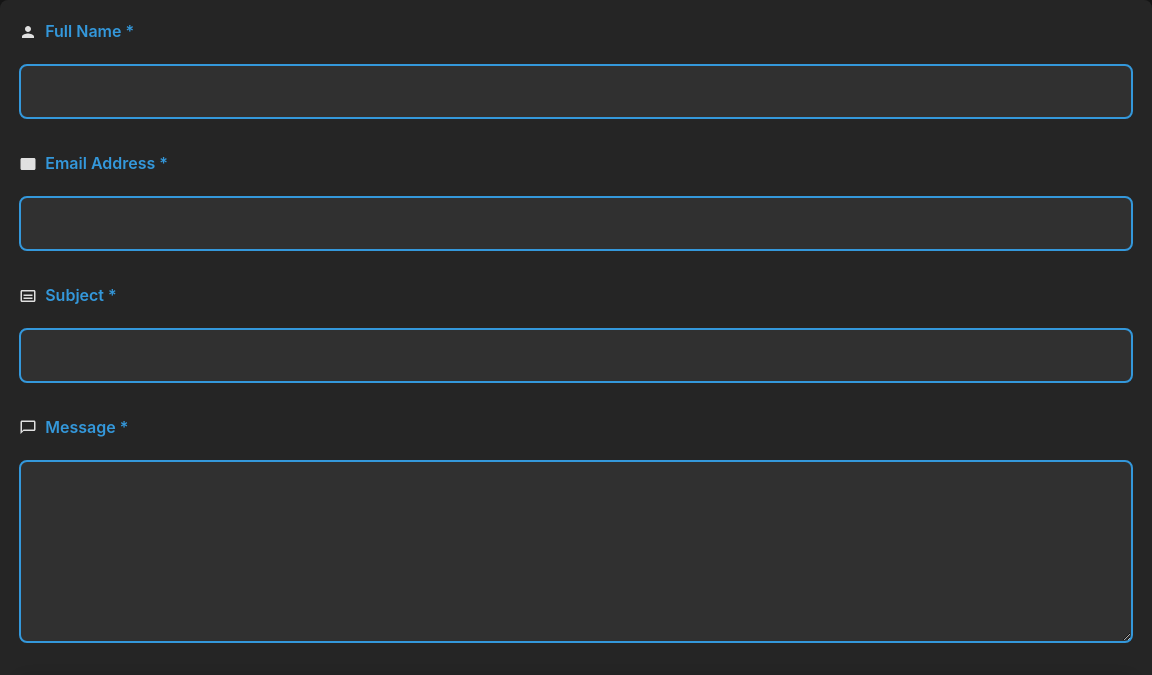
Test: ContactForm › shows error for invalid email
Type "invalid-email" into the field with test id "test-contact-email" at (576, 224), box [19,196,1133,251]
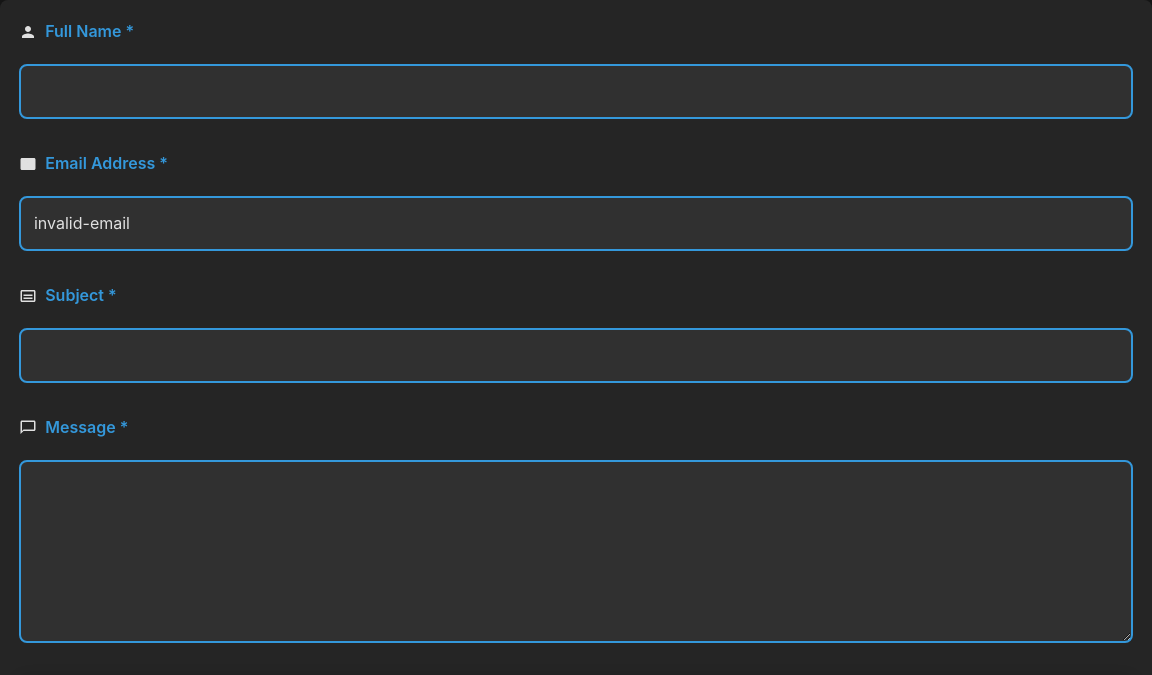
Leave the field with test id "test-contact-email", box [19,196,1133,251]
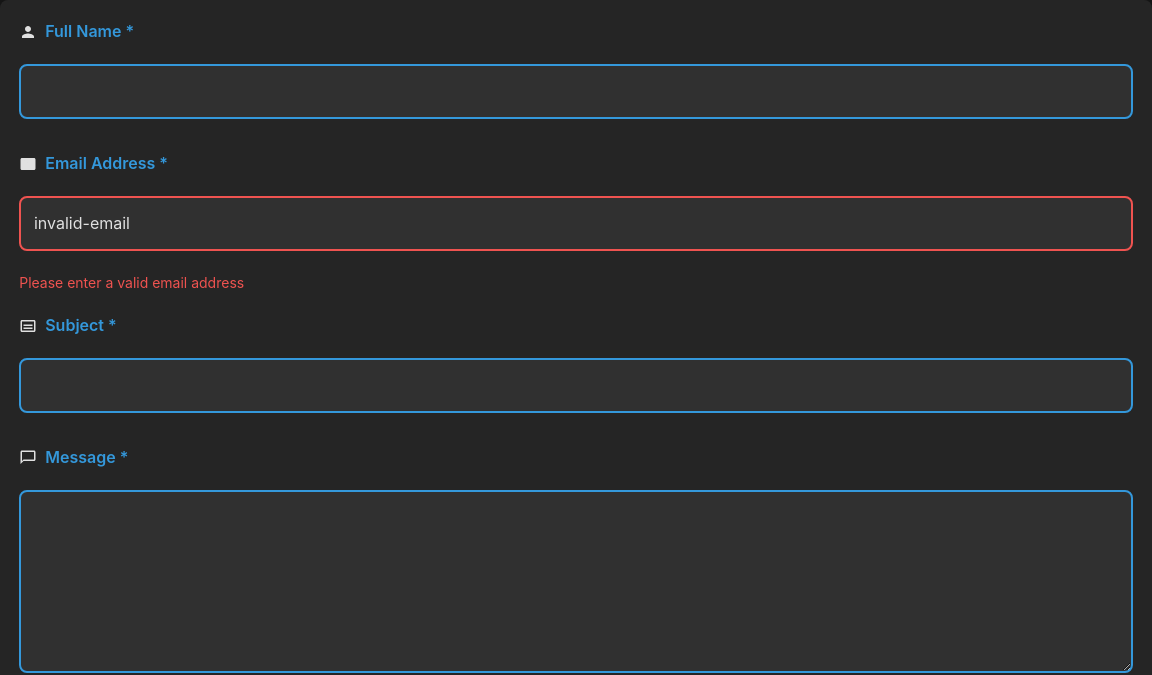
Now the message with test id "test-contact-error-email" shows "valid email", box [19,274,244,291]
